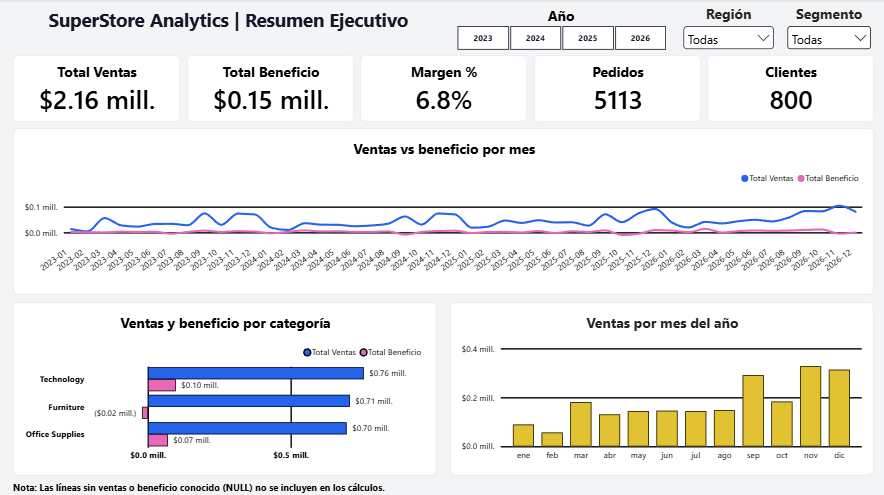

Layout of this report page (visuals, bound fields, positions):
{"tool":"powerbi","page":{"name":"Resumen ejecutivo","canvas":[1280,720],"ordinal":0},"visuals":[{"type":"textbox","box":[20,12,620,56],"z":0},{"type":"slicer","title":"Año","fields":{"Values":["Calendario.Año"]},"box":[640,10,340,65],"z":1000},{"type":"slicer","title":"Región","fields":{"Values":["order_summary.region"]},"box":[980,6.7,140,75],"z":2000},{"type":"slicer","title":"Segmento","fields":{"Values":["order_summary.segment"]},"box":[1130,6.7,130,86.7],"z":3000},{"type":"cardVisual","title":"Total ","fields":{"Data":["sales_details.Total Ventas"]},"box":[20,80,240,96],"z":4000},{"type":"cardVisual","title":"Total ","fields":{"Data":["sales_details.Margen %"]},"box":[520,80,240,96],"z":5000},{"type":"cardVisual","title":"Total ","fields":{"Data":["sales_details.Pedidos"]},"box":[770,80,240,96],"z":6000},{"type":"cardVisual","title":"Total ","fields":{"Data":["sales_details.Clientes"]},"box":[1020,80,240,96],"z":7000},{"type":"cardVisual","title":"Total ","fields":{"Data":["sales_details.Total Beneficio"]},"box":[270,80,240,96],"z":8000},{"type":"lineChart","title":"Ventas vs beneficio por mes","fields":{"Category":["order_summary.order_year_month"],"Y":["sales_details.Total Ventas","sales_details.Total Beneficio"]},"box":[20,186,1240,240],"z":9000},{"type":"clusteredBarChart","title":"Ventas y beneficio por categoría","fields":{"Category":["sales_details.category"],"Y":["sales_details.Total Ventas","sales_details.Total Beneficio"]},"box":[20,436,610,250],"z":10000},{"type":"clusteredColumnChart","title":"Ventas por mes del año","fields":{"Category":["Calendario.Mes"],"Y":["sales_details.Total Ventas"]},"box":[650,436,610,250],"z":11000},{"type":"textbox","box":[20,694,900,20],"z":12000}]}

Visuals, with their boxes in screenshot pixels (x1, y1, x2, y2), scaled from the page's 1280x720 canvas onto the 884x495 screenshot:
textbox: <box>14,8,442,47</box>
"Año" slicer: <box>442,7,677,52</box>
"Región" slicer: <box>677,5,774,56</box>
"Segmento" slicer: <box>780,5,870,64</box>
"Total " cardVisual: <box>14,55,180,121</box>
"Total " cardVisual: <box>359,55,525,121</box>
"Total " cardVisual: <box>532,55,698,121</box>
"Total " cardVisual: <box>704,55,870,121</box>
"Total " cardVisual: <box>186,55,352,121</box>
"Ventas vs beneficio por mes" lineChart: <box>14,128,870,293</box>
"Ventas y beneficio por categoría" clusteredBarChart: <box>14,300,435,472</box>
"Ventas por mes del año" clusteredColumnChart: <box>449,300,870,472</box>
textbox: <box>14,477,635,491</box>
